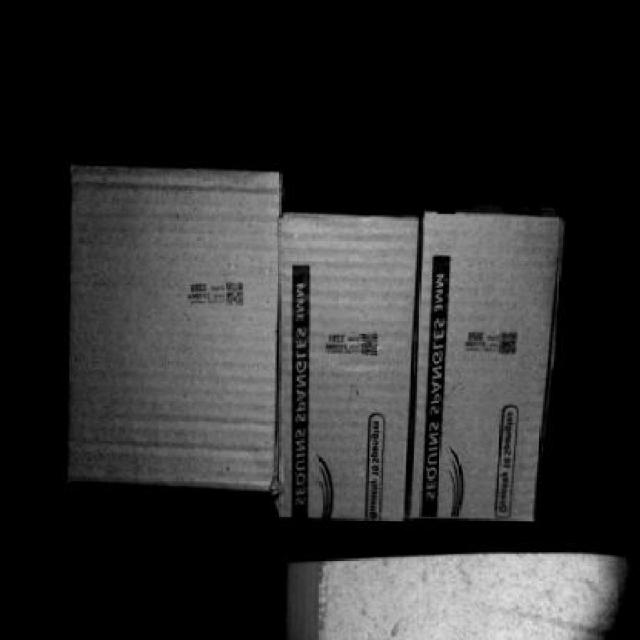cardboxes: (71, 162, 277, 484), (410, 215, 559, 523), (282, 220, 410, 520)
